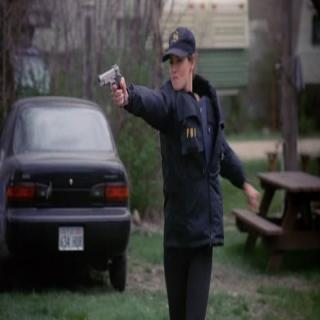gun: (96, 62, 128, 105)
